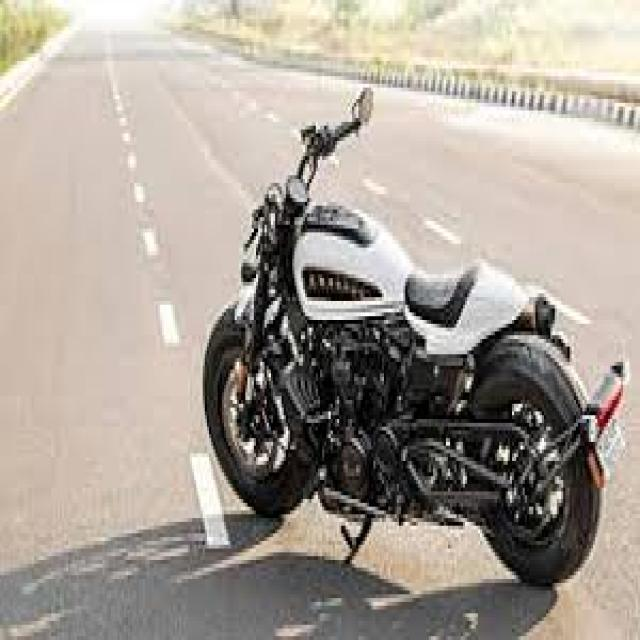MOTORCYCLE: (205, 121, 622, 588)
